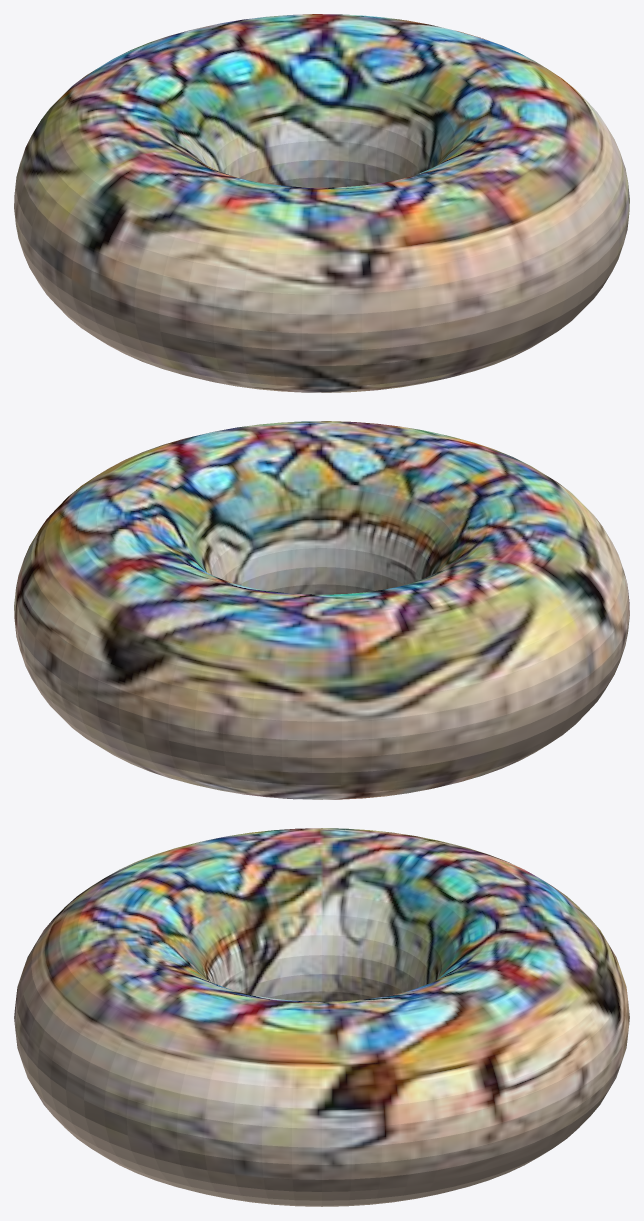
Rendered from donut_ours.glb.
3 views of the same model, one above another, from view 1: azimuth 30°, elevation 25°; view 2: azimuth 150°, elevation 25°; view 3: azimuth 270°, elevation 25° (orthographic).
Parts seen in each view (by area): view 1: Torus.002; view 2: Torus.002; view 3: Torus.002.
Part boxes in pixels (left/top/right/bottom): Torus.002: left=14, top=14, right=629, bottom=392; Torus.002: left=14, top=421, right=629, bottom=799; Torus.002: left=14, top=828, right=629, bottom=1206.
Size of the model in its own units: 2.64 by 0.88 by 2.64.
Materials: 1 (1 with a texture image).
